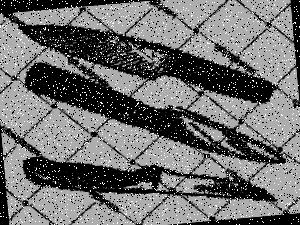knife: (28, 55, 299, 171), (14, 21, 279, 106), (17, 149, 281, 203)
